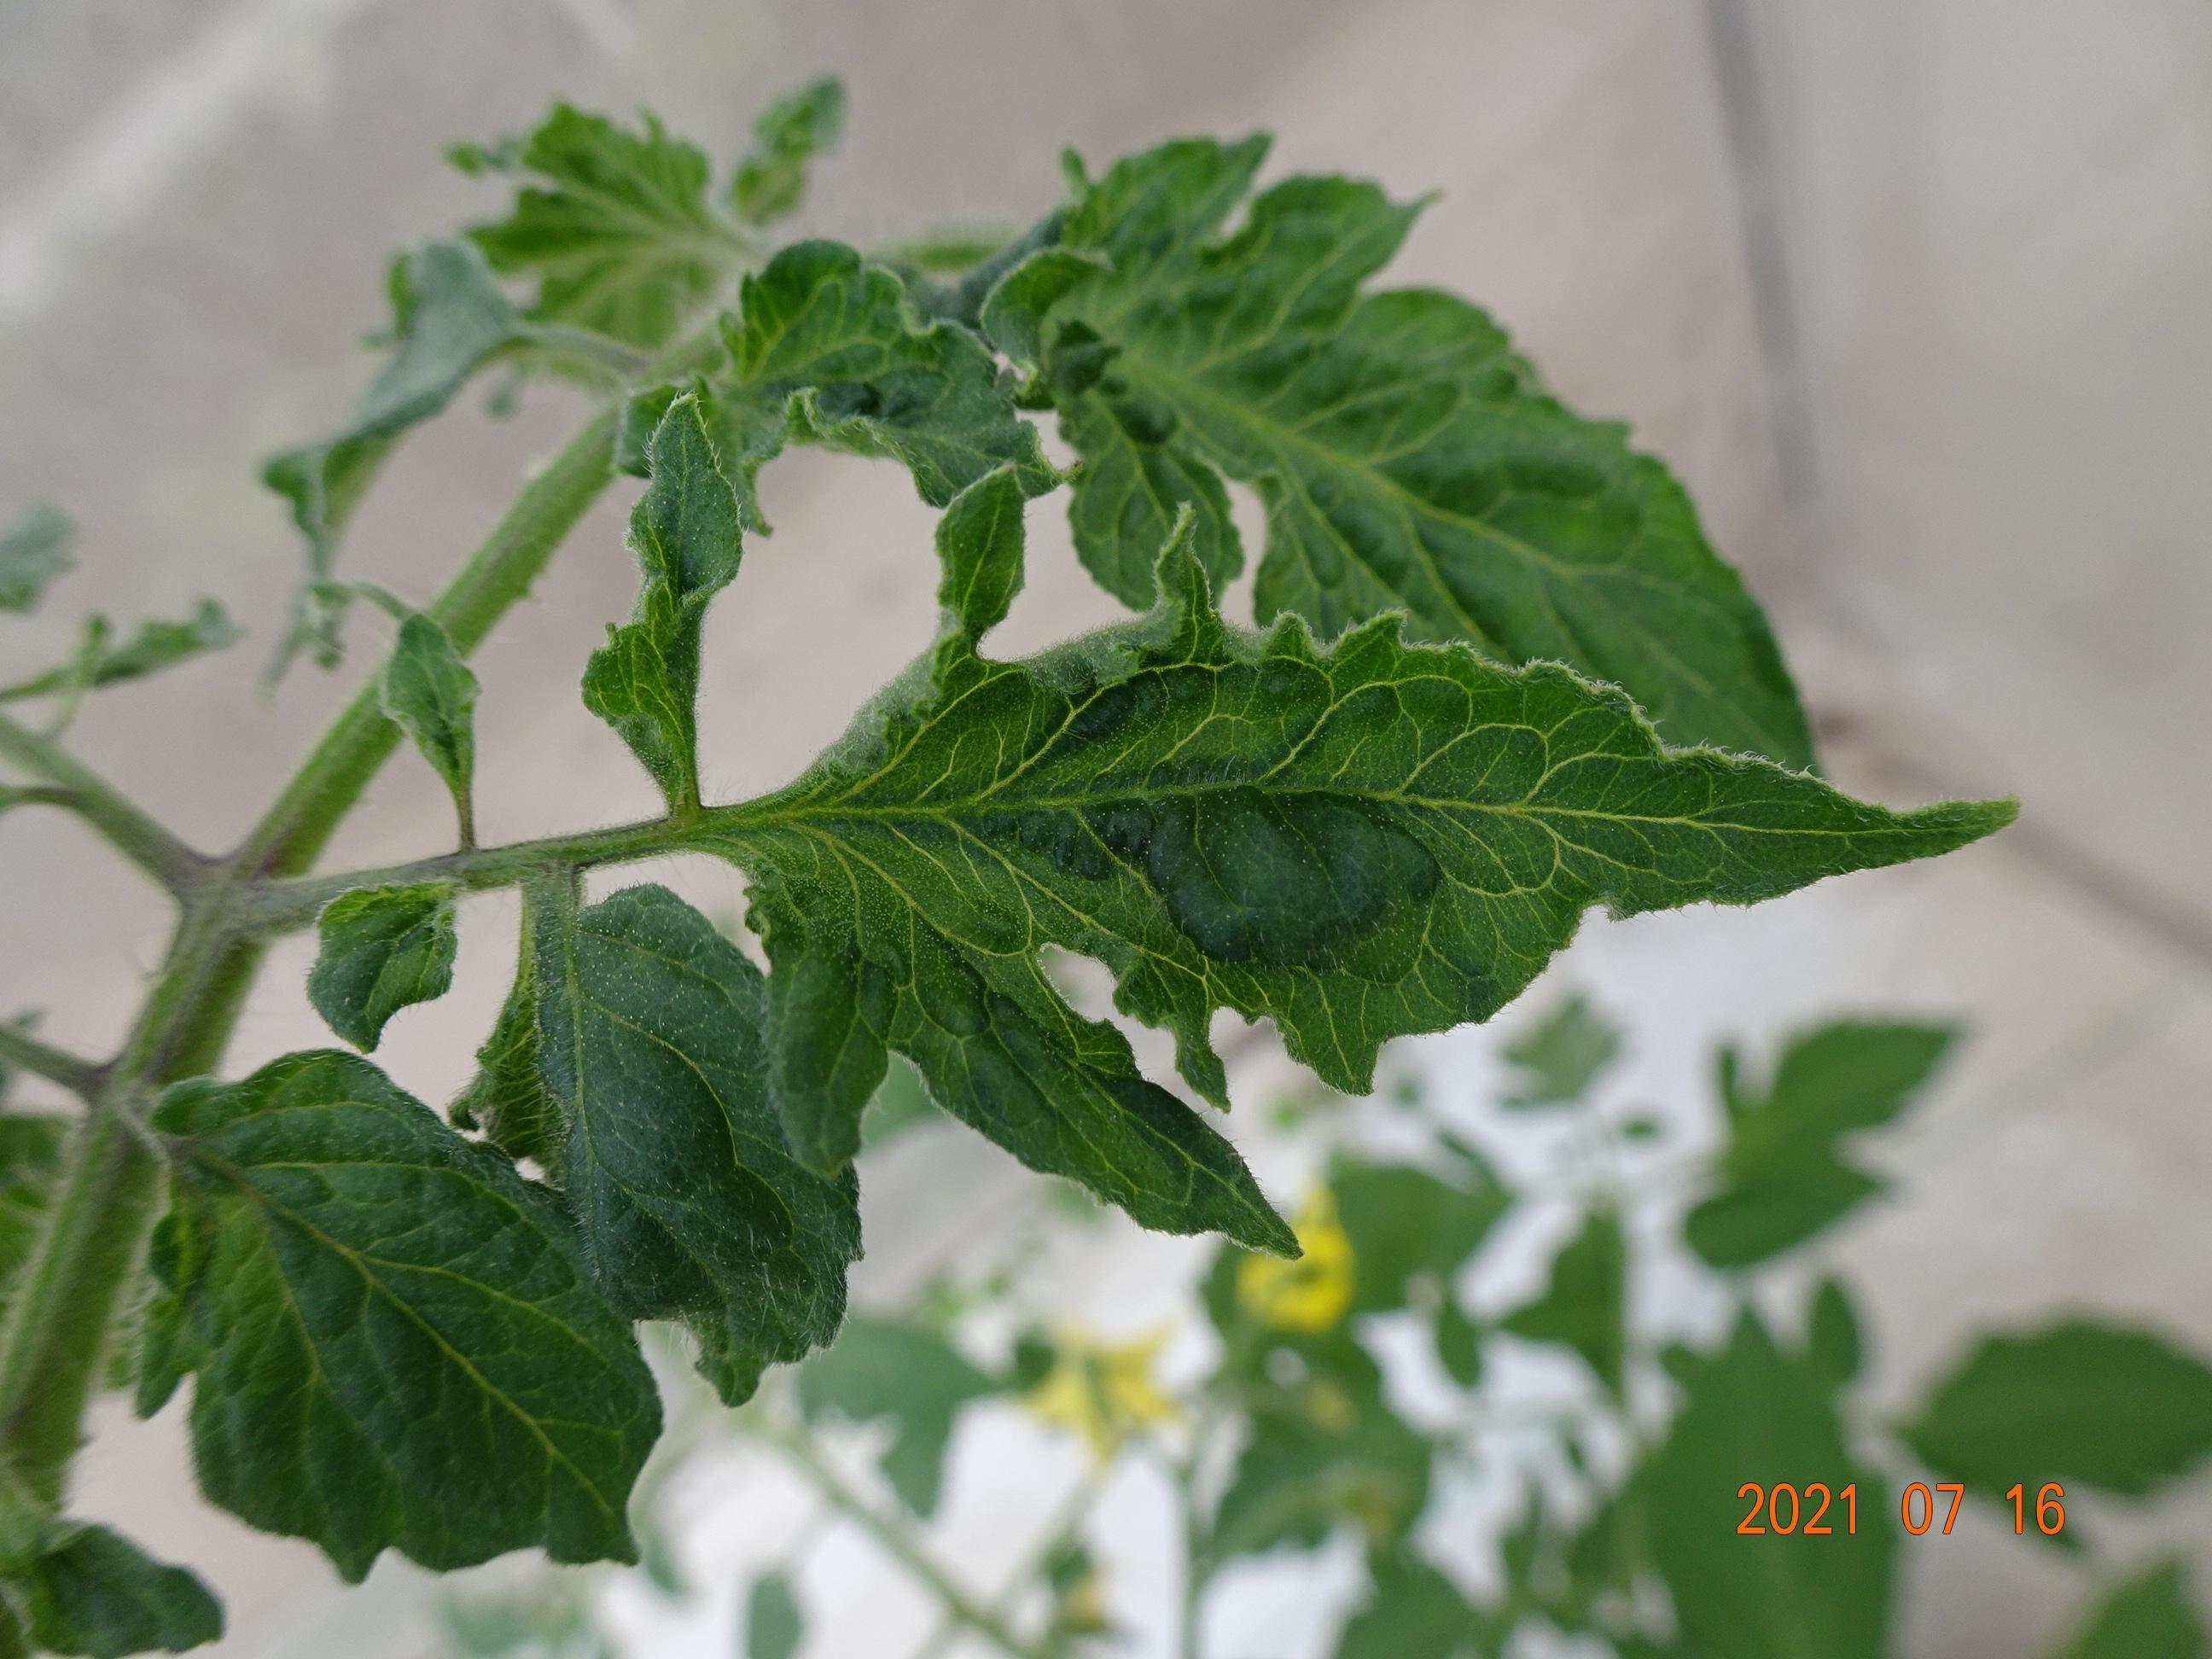Rugose leaf: (671, 469, 2013, 1251)
Rugose stem: (164, 805, 770, 945)
